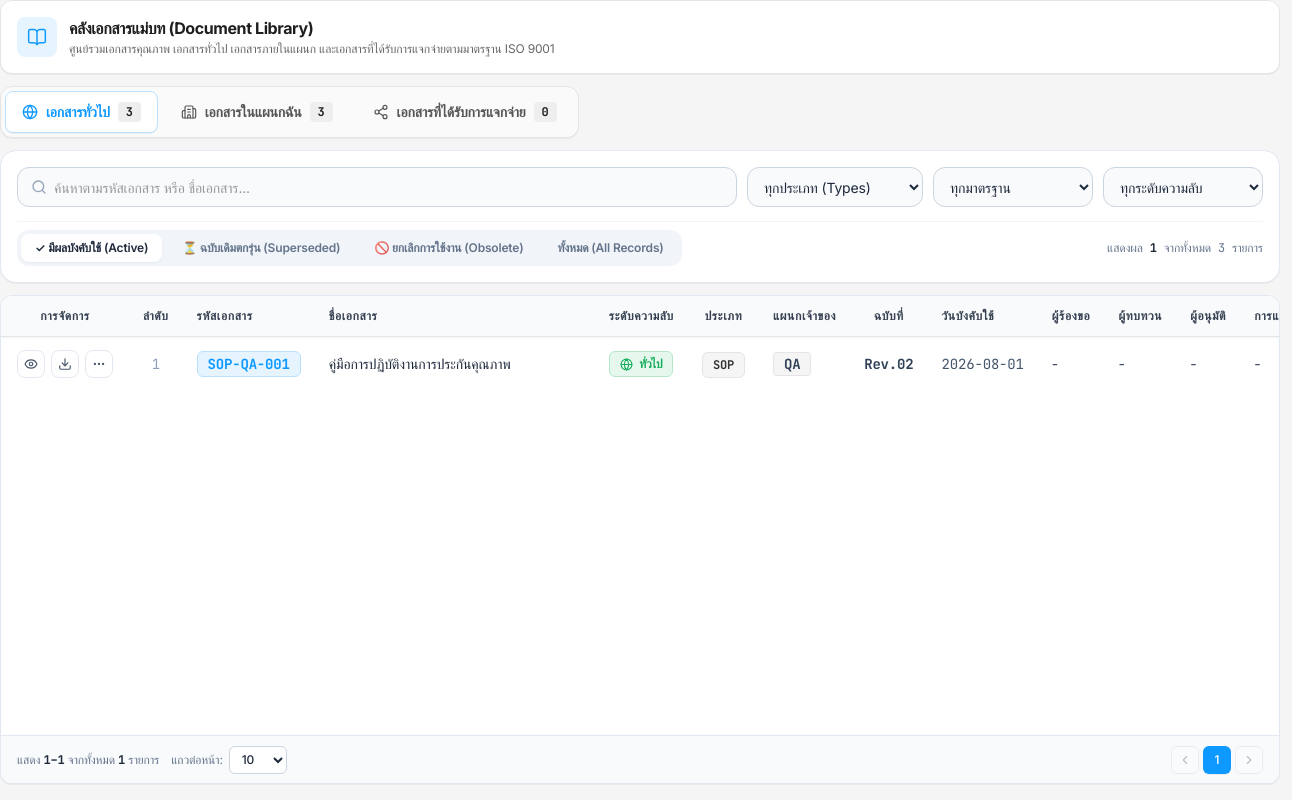
Test: Critical System Fix: Library Status Filter Normalization & Watermark Disentanglement Tests › 1. Status Normalization & Tab Filter Verification › Renders SOP-QA-002 (SUPERSEDED_ARCHIVED) in Library when selecting Superseded status sub-tab
Note: Select status filter "ตกรุ่น (Superseded)"
Click the button "⏳ ฉบับเดิมตกรุ่น (Superseded)" at coordinates (261, 248), box [168,234,354,262]
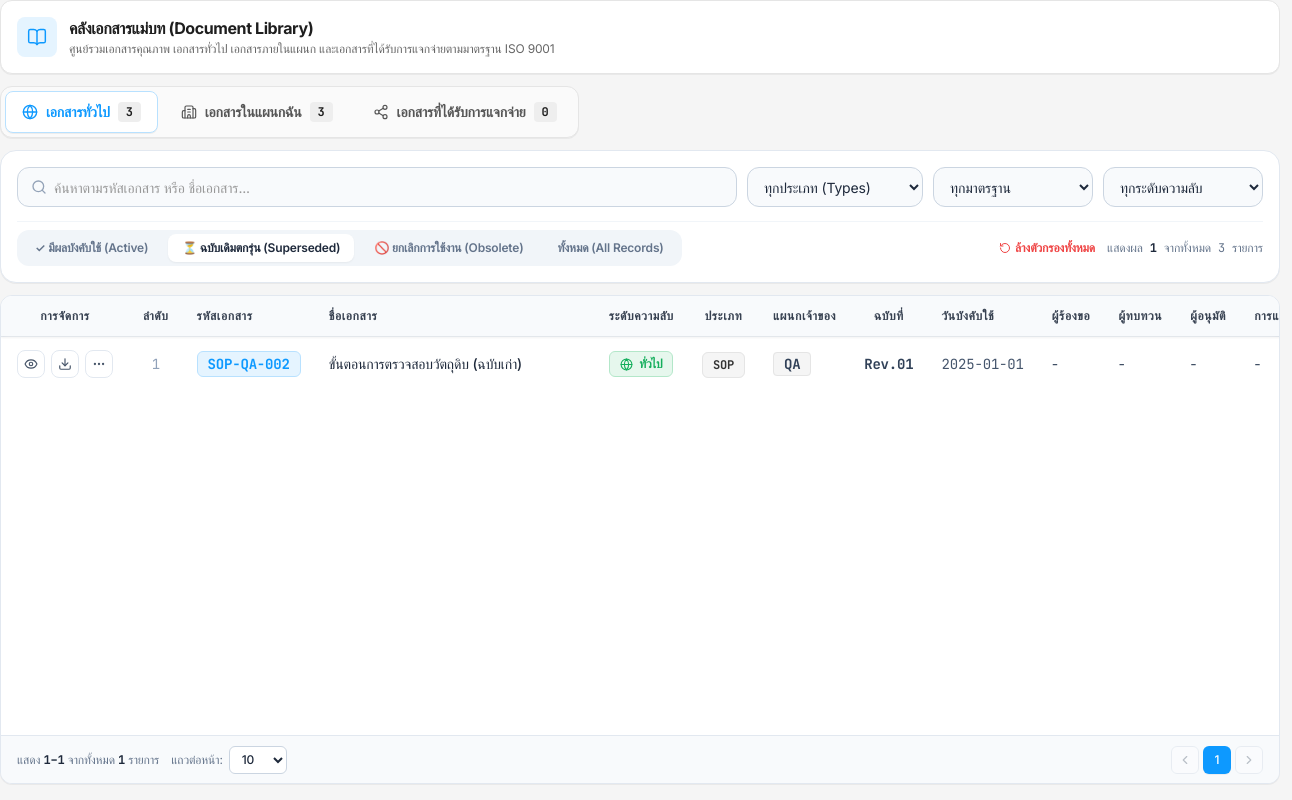
Now the text "SOP-QA-002" is shown, box [196,351,301,377]
